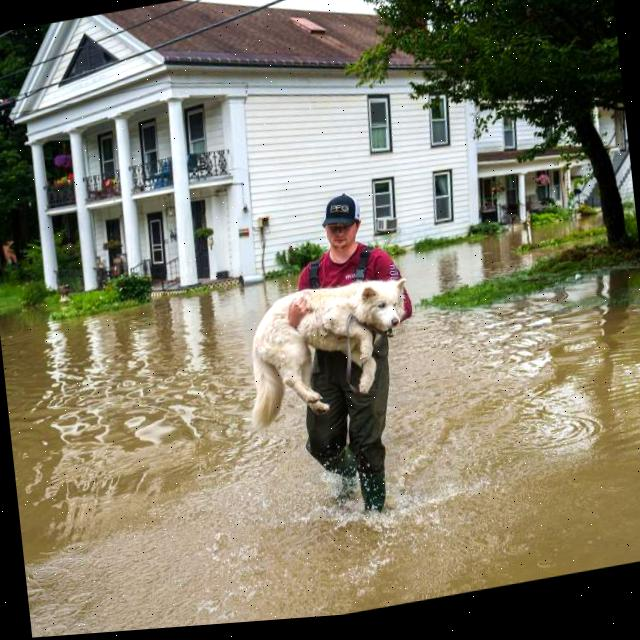civilian: (274, 179, 426, 524)
dog: (229, 254, 427, 436)
